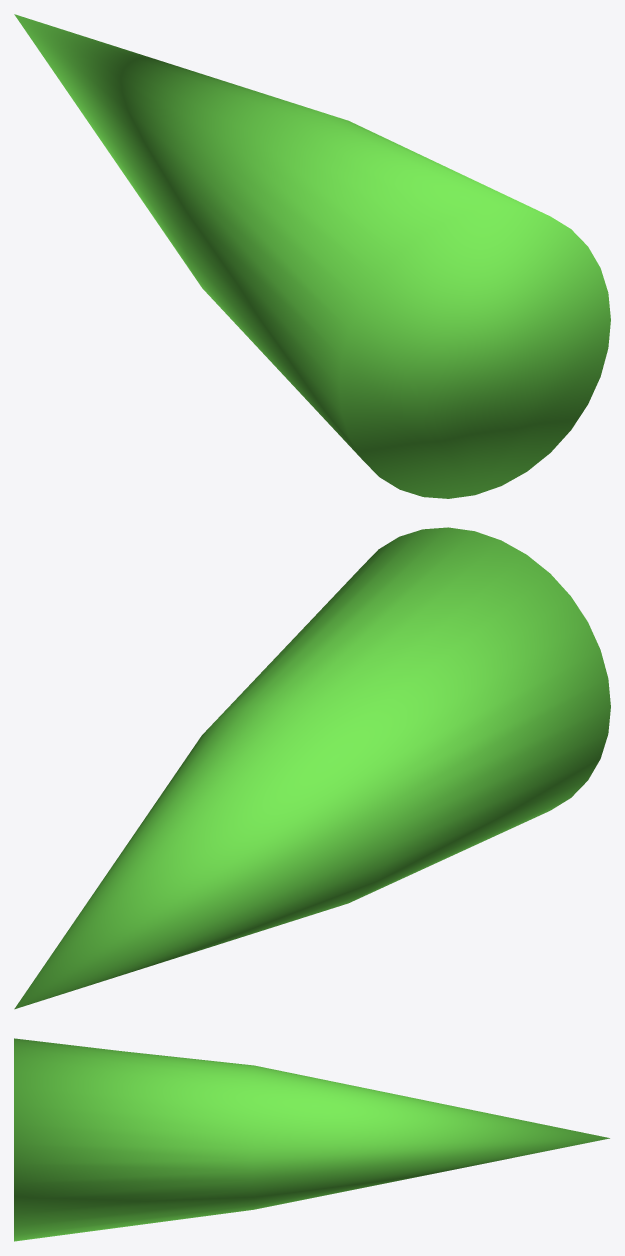
File: tail.fbx
3 renders of one model, top to bottom at view 1: azimuth 30°, elevation 25°; view 2: azimuth 150°, elevation 25°; view 3: azimuth 270°, elevation 25°, orthographic. The views are drawn at different scales.
Parts seen in each view (by area): view 1: Cone; view 2: Cone; view 3: Cone.
Boxes of the visible parts, x1,y1,x2,y2 form: Cone: [14, 14, 610, 498]; Cone: [14, 527, 610, 1009]; Cone: [14, 1038, 609, 1241].
Size of the model in its own units: 169 by 169 by 496.
